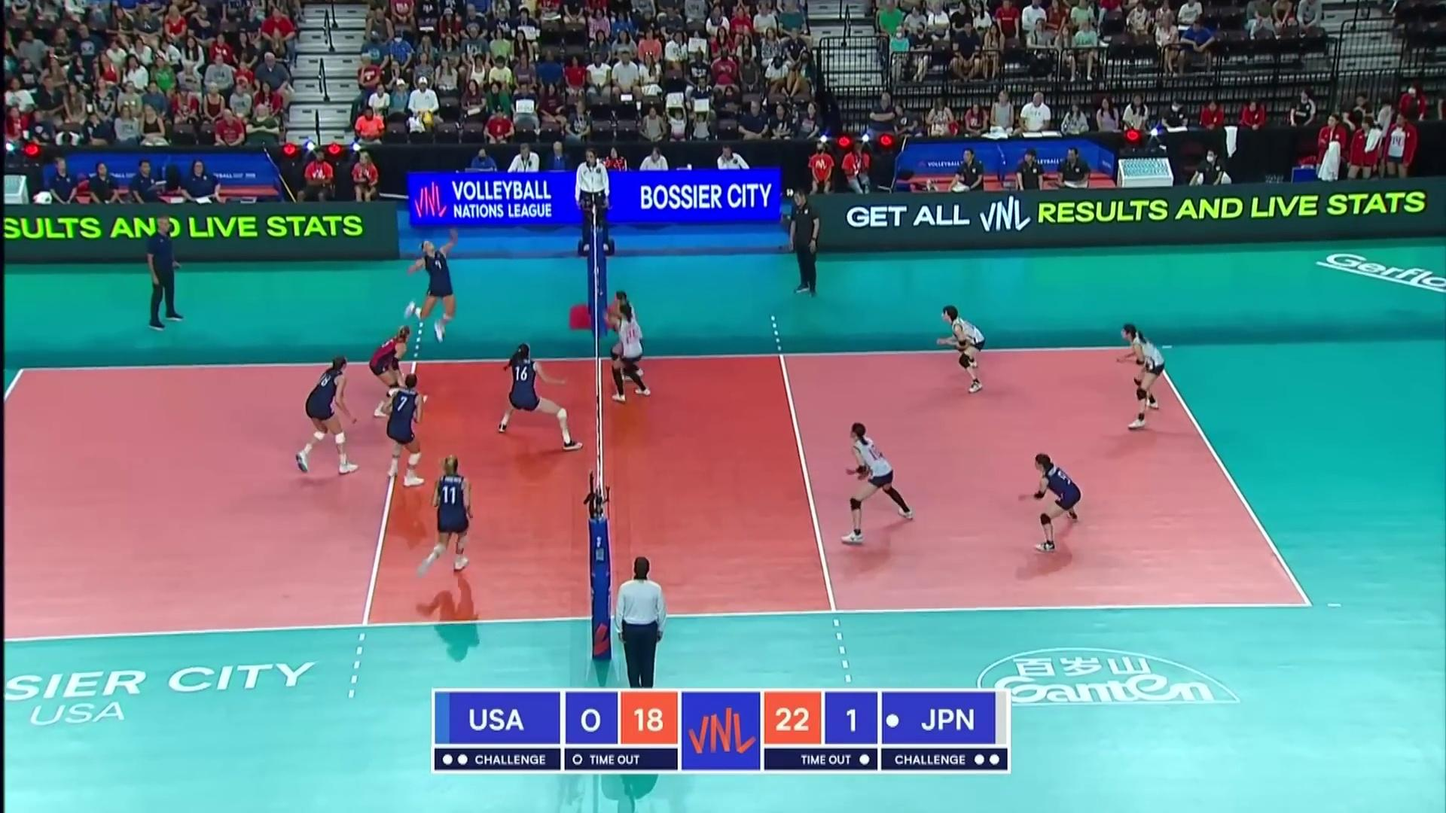player: (840, 423, 918, 547), (498, 343, 586, 449), (300, 351, 359, 479), (409, 460, 475, 574), (402, 230, 460, 339), (1020, 453, 1082, 553), (367, 327, 432, 418), (1115, 323, 1168, 427), (380, 374, 427, 487), (938, 303, 990, 389), (610, 304, 651, 401), (609, 291, 645, 384)
refree: (617, 560, 665, 688), (577, 151, 610, 252)
